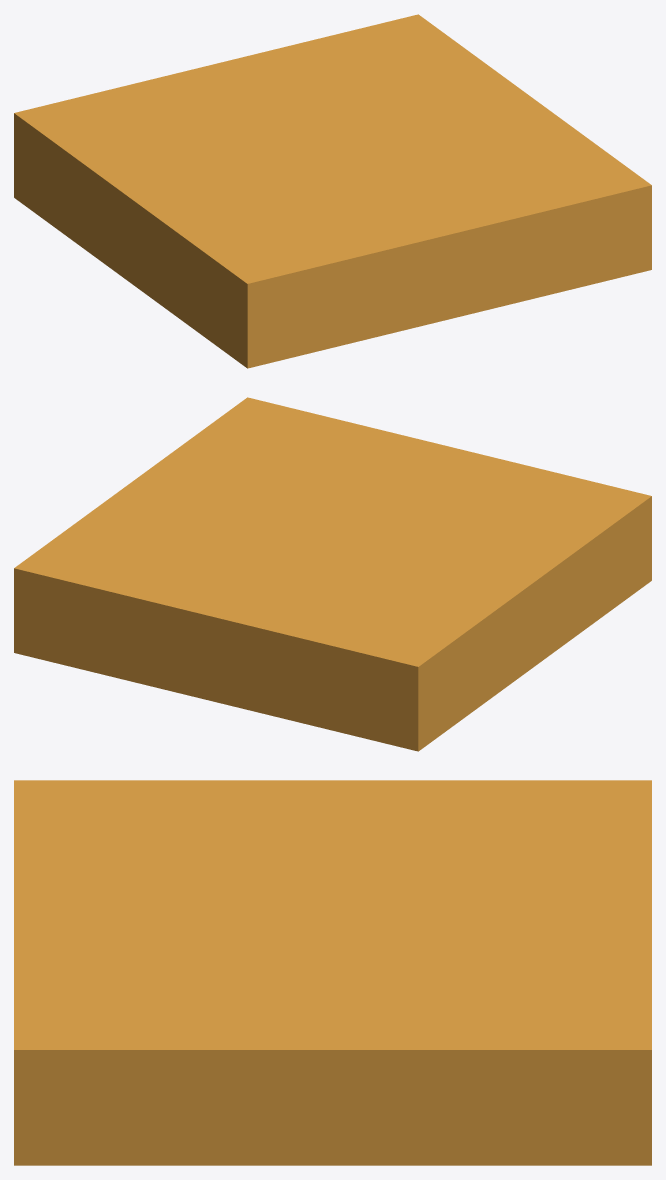
The model's file is tile-sidewalk-straight.glb.
3 views of the same model, one above another, from view 1: azimuth 30°, elevation 25°; view 2: azimuth 150°, elevation 25°; view 3: azimuth 270°, elevation 25° (orthographic). The views are drawn at different scales.
Visible parts, largest first — view 1: tile-sidewalk-straight; view 2: tile-sidewalk-straight; view 3: tile-sidewalk-straight.
Boxes of the visible parts, left/top/right/bottom form: tile-sidewalk-straight: left=14, top=14, right=651, bottom=368; tile-sidewalk-straight: left=14, top=397, right=651, bottom=751; tile-sidewalk-straight: left=14, top=780, right=651, bottom=1165.
Size of the model in its own units: 30 by 6 by 30.
